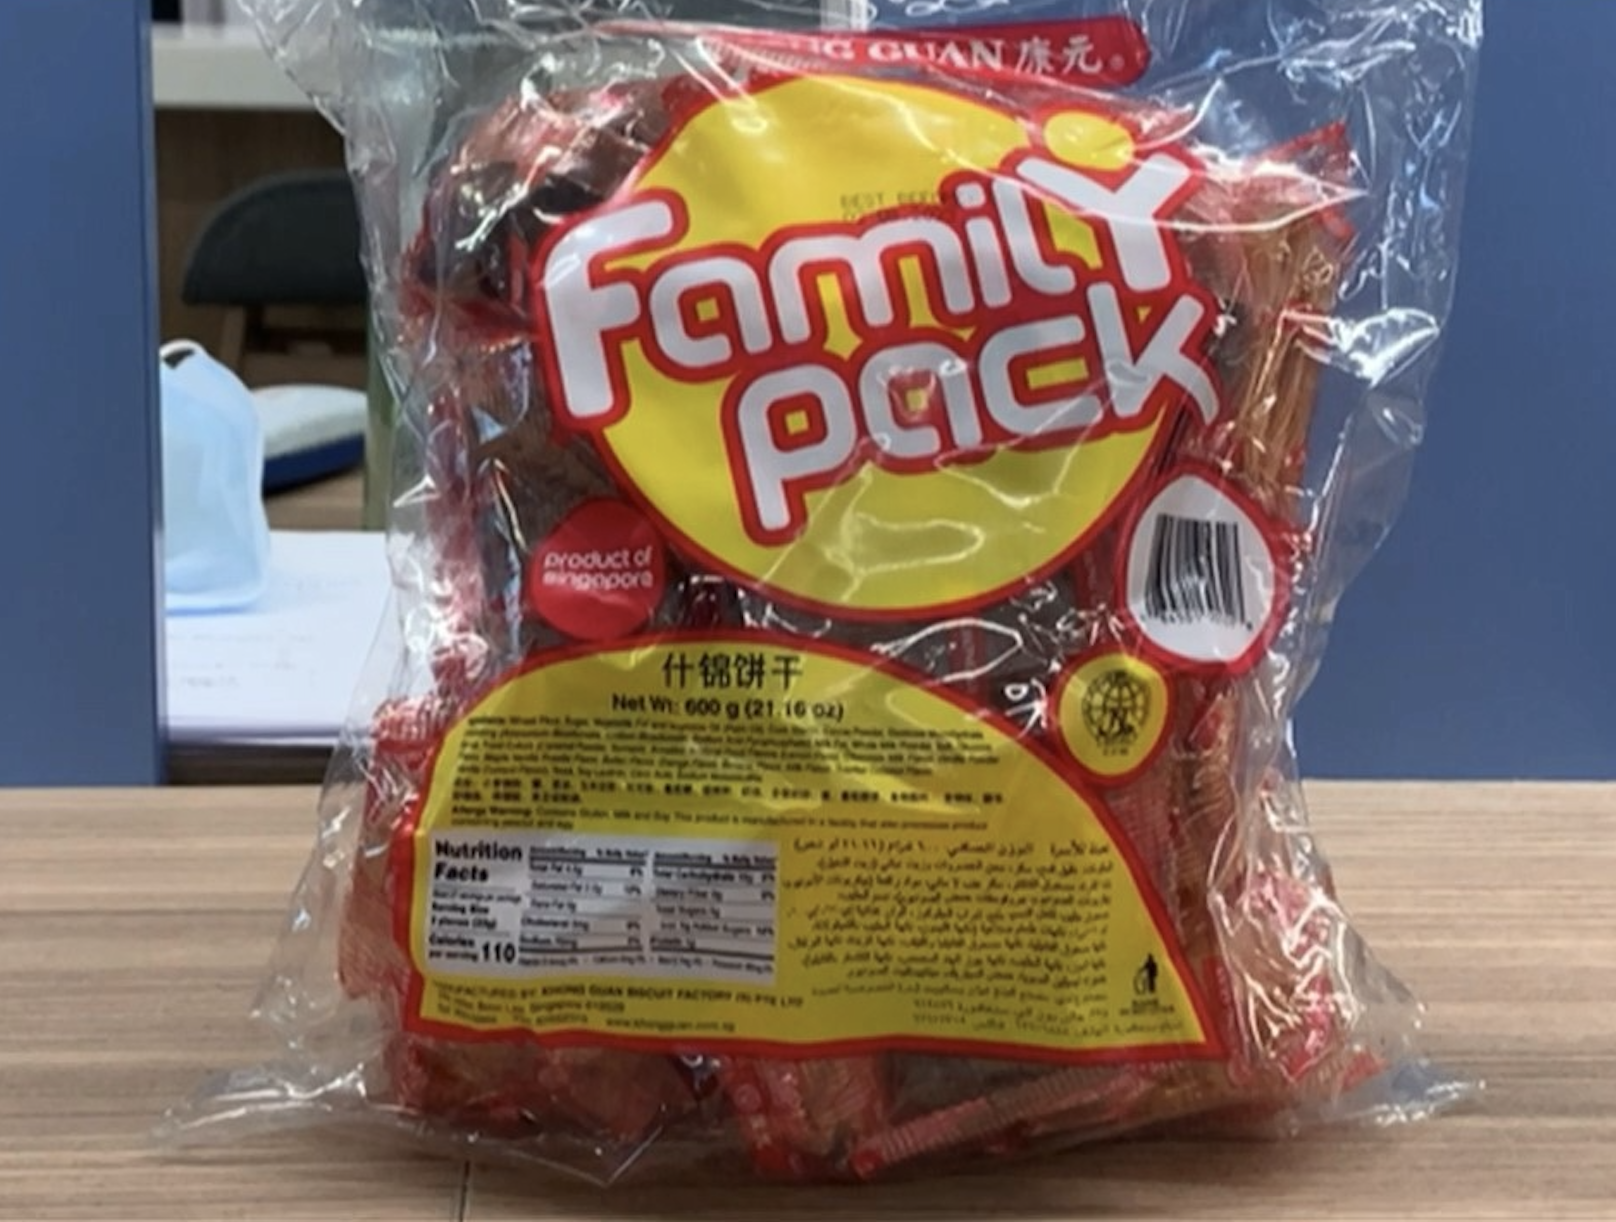cookies_550g: (390, 24, 1298, 1094)
